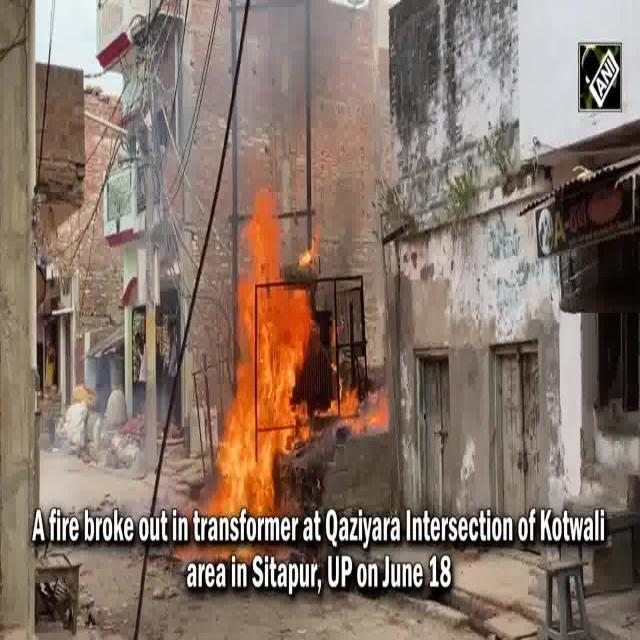Fire: (212, 208, 322, 518), (333, 381, 384, 439)
Smoke: (257, 1, 372, 114)
